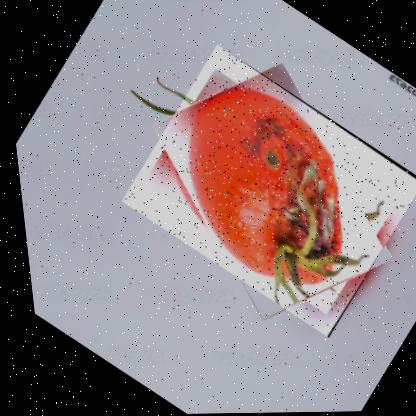tomato_rotten: (101, 41, 415, 342)
